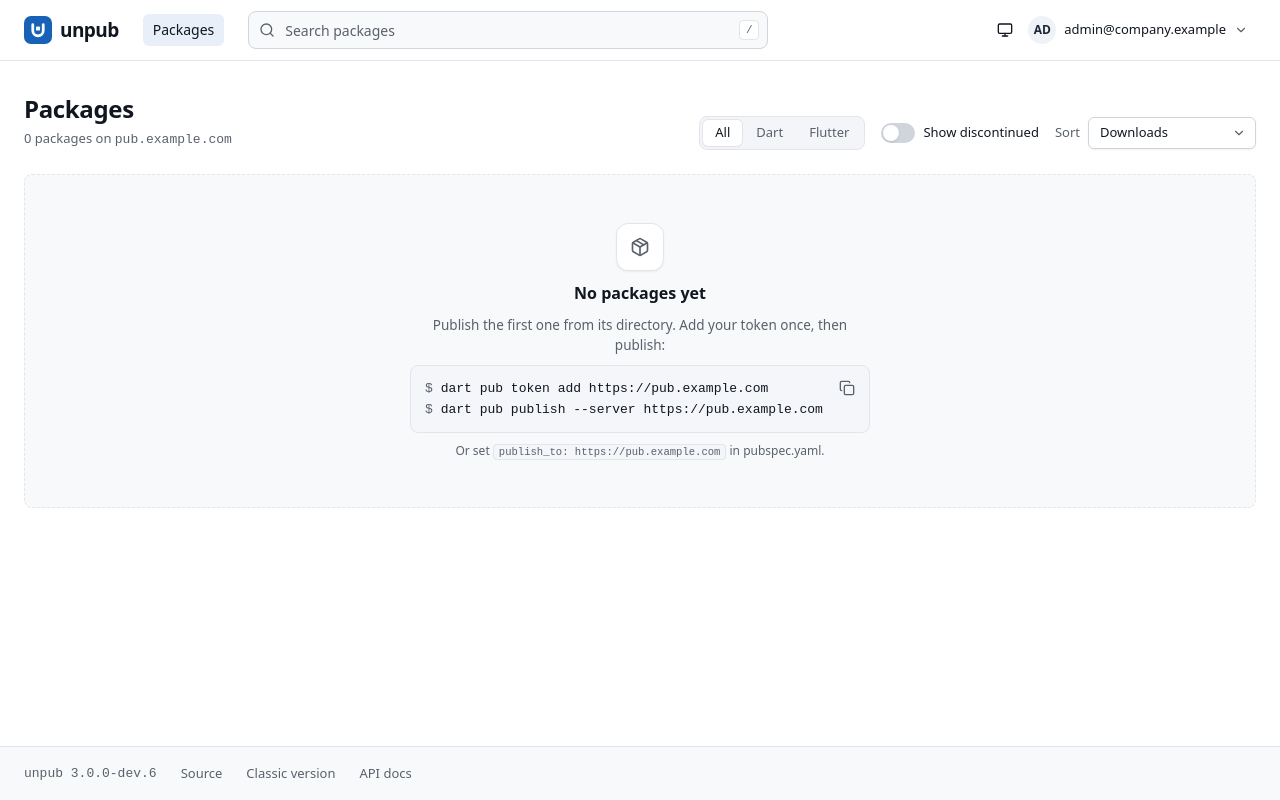
Test: logout › ends the session
Click the button with aria-label "Account menu for admin@company.example": click(1140, 30) x1=1024 y1=12 x2=1256 y2=48
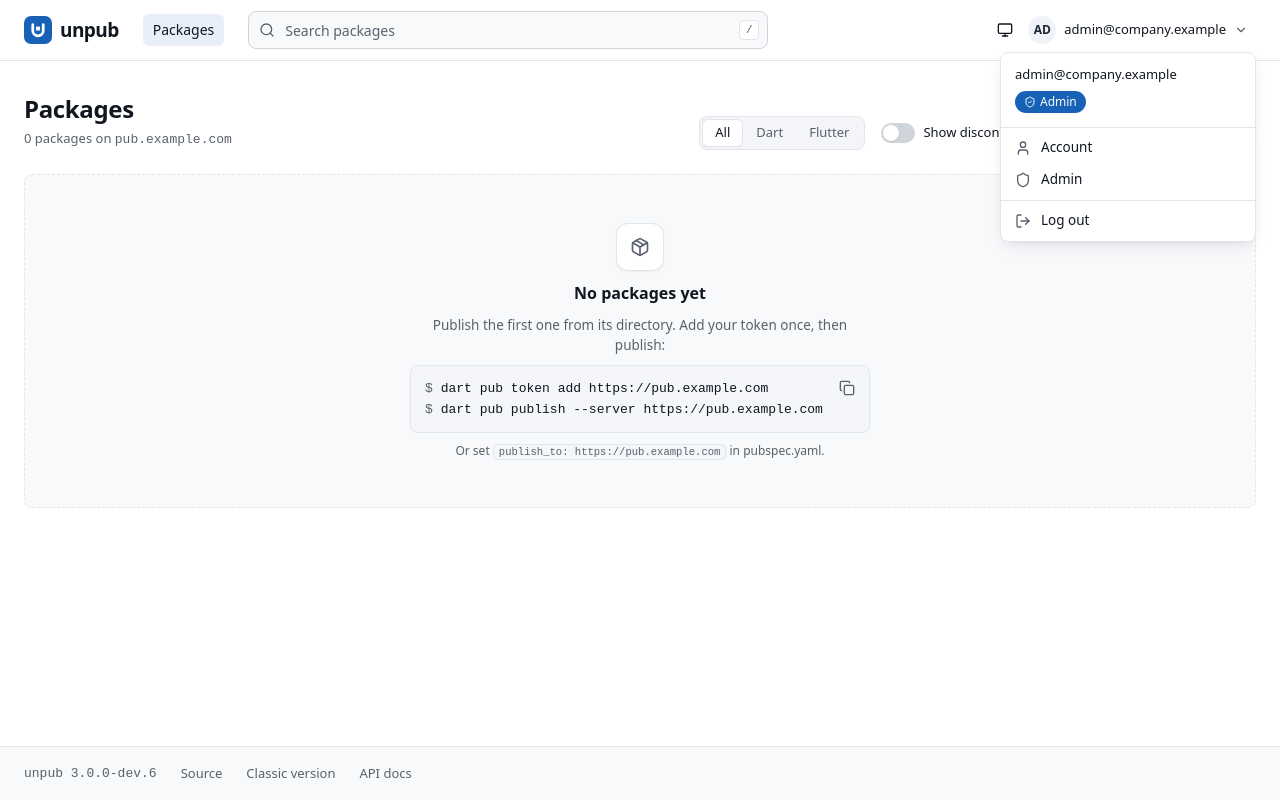
Click the menu item "Log out": click(1052, 220) x1=1015 y1=211 x2=1090 y2=229
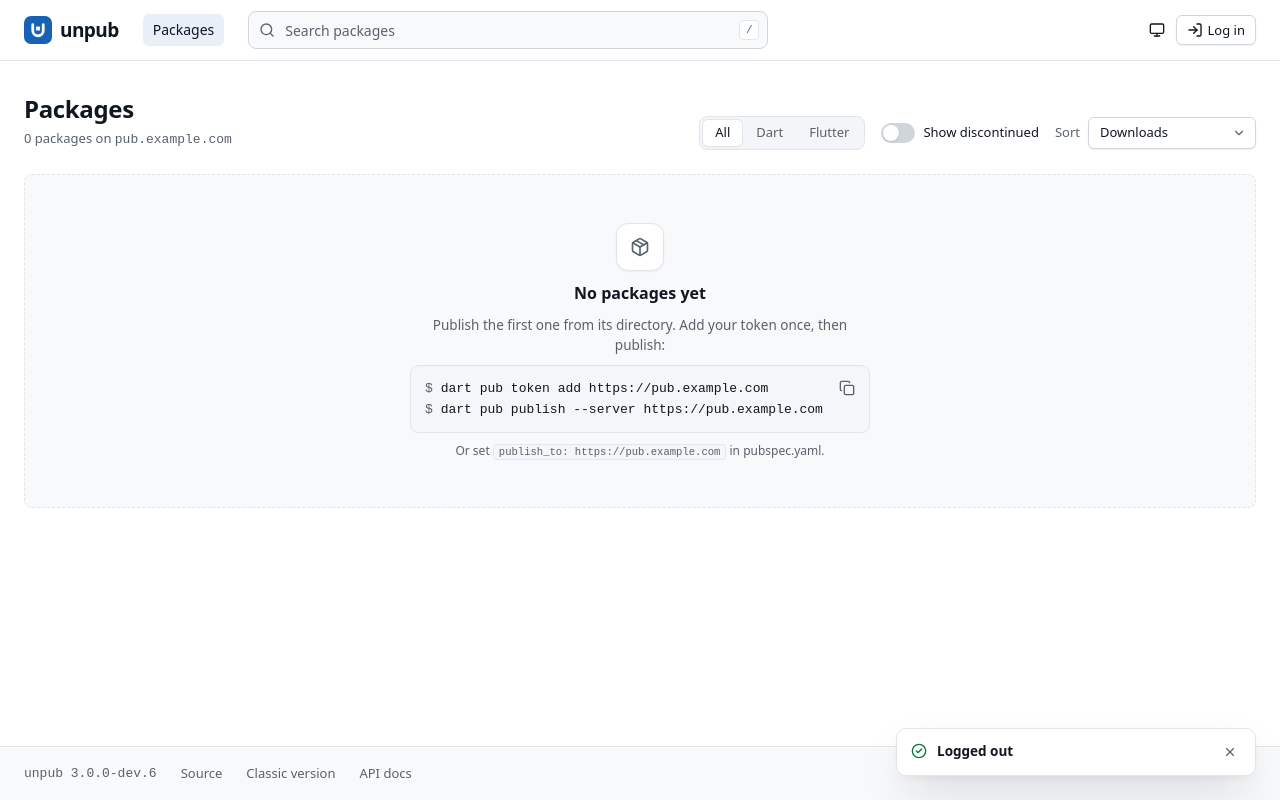
Expected: the text "Logged out" is shown, x1=937 y1=742 x2=1013 y2=760
Expected: the link "Log in" is shown, x1=1176 y1=15 x2=1256 y2=45
